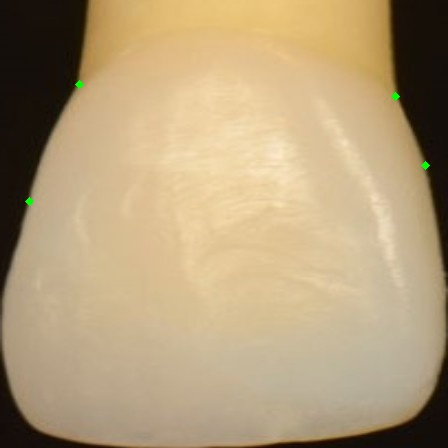coin_1: (79, 84, 99, 104)
coin_2: (29, 201, 49, 221)
coin_3: (395, 96, 415, 116)
coin_4: (425, 165, 445, 185)
